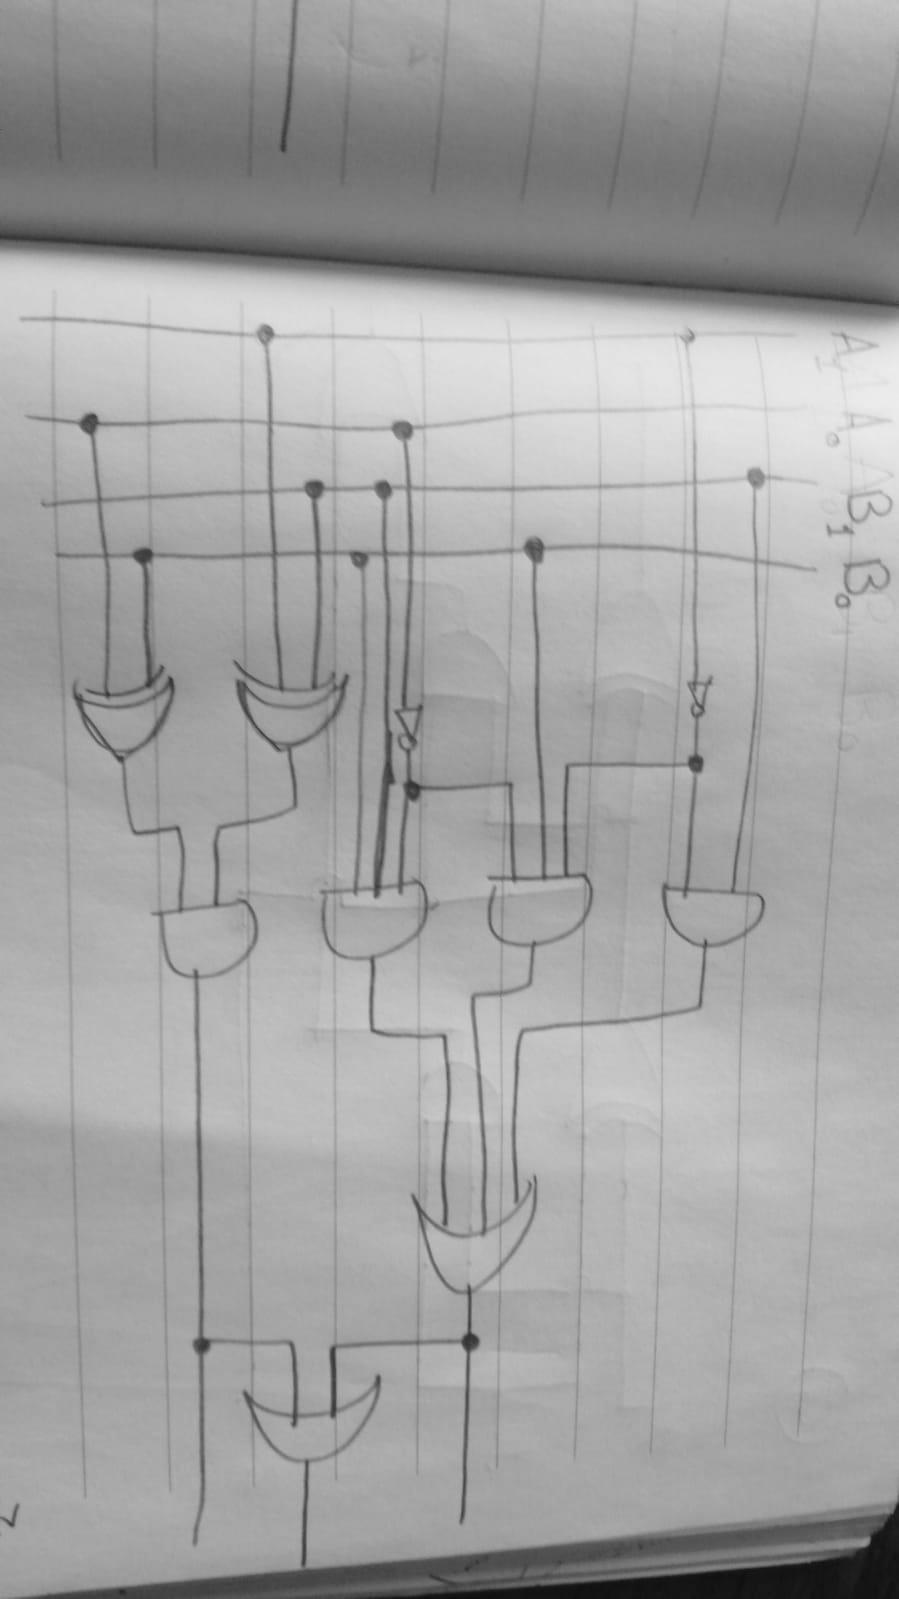AND: (134, 884, 283, 998), (306, 861, 450, 970), (647, 873, 791, 970), (480, 861, 609, 953)
NOT: (674, 662, 727, 722), (397, 702, 437, 760)
OR: (229, 1368, 408, 1479), (400, 1179, 557, 1301)
XNOR: (223, 647, 363, 762), (70, 660, 202, 776)
